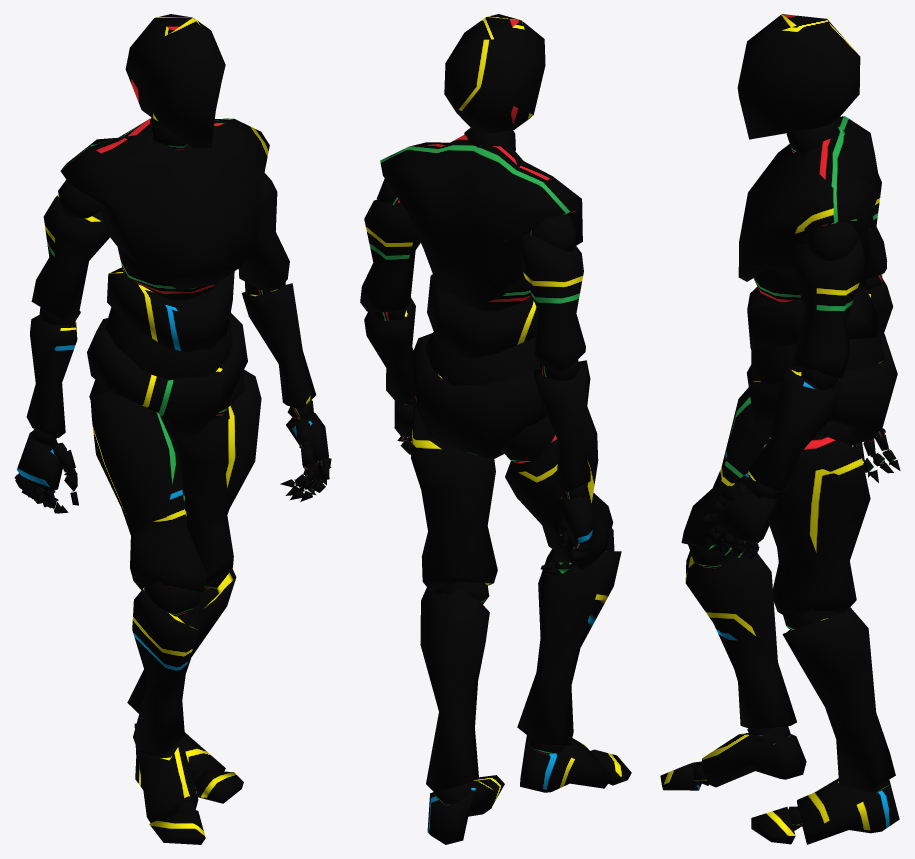
File: y-bot-origin_000001.obj
3 views of the same model, side by side, from view 1: azimuth 30°, elevation 25°; view 2: azimuth 150°, elevation 25°; view 3: azimuth 270°, elevation 25° (orthographic). The views are drawn at different scales.
Parts seen in each view (by area): view 1: Alpha_Surface_Alpha_SurfaceMesh, Alpha_Joints_Alpha_JointsMesh; view 2: Alpha_Surface_Alpha_SurfaceMesh, Alpha_Joints_Alpha_JointsMesh; view 3: Alpha_Surface_Alpha_SurfaceMesh, Alpha_Joints_Alpha_JointsMesh.
Part boxes in pixels (bbox=[...]): Alpha_Surface_Alpha_SurfaceMesh: bbox=[15, 14, 329, 844]; Alpha_Joints_Alpha_JointsMesh: bbox=[14, 117, 331, 812]; Alpha_Surface_Alpha_SurfaceMesh: bbox=[360, 14, 631, 844]; Alpha_Joints_Alpha_JointsMesh: bbox=[372, 127, 614, 805]; Alpha_Surface_Alpha_SurfaceMesh: bbox=[660, 14, 900, 844]; Alpha_Joints_Alpha_JointsMesh: bbox=[688, 123, 893, 830].
Bounding box in the file's own units: 0.5953 × 1.79 × 0.4847.
